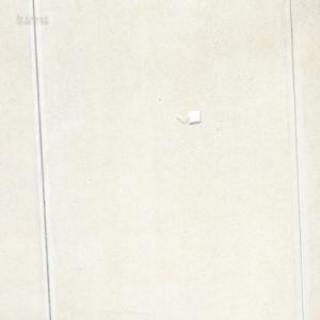LuggageTagtrack_idkeyframe: (175, 108, 200, 125)
